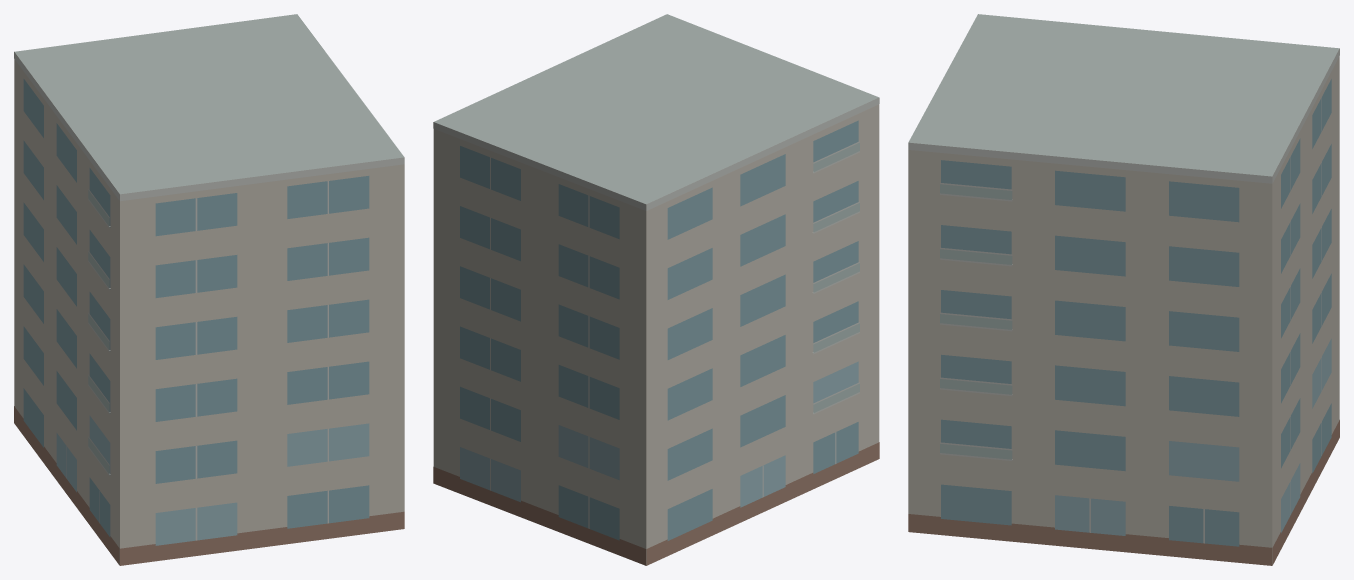
Rendered from survey-upis-33037084.glb.
3 renders of one model, left to right at view 1: azimuth 30°, elevation 25°; view 2: azimuth 150°, elevation 25°; view 3: azimuth 270°, elevation 25°, orthographic. The views are drawn at different scales.
Parts seen in each view (by area): view 1: survey-upis-33037084.tmp; view 2: survey-upis-33037084.tmp; view 3: survey-upis-33037084.tmp.
Part boxes in pixels (x1,y1,x2,y2): survey-upis-33037084.tmp: (14,14,404,565); survey-upis-33037084.tmp: (433,14,879,565); survey-upis-33037084.tmp: (908,14,1339,565).
Size of the model in its own units: 11.74 by 13.1 by 13.17.
